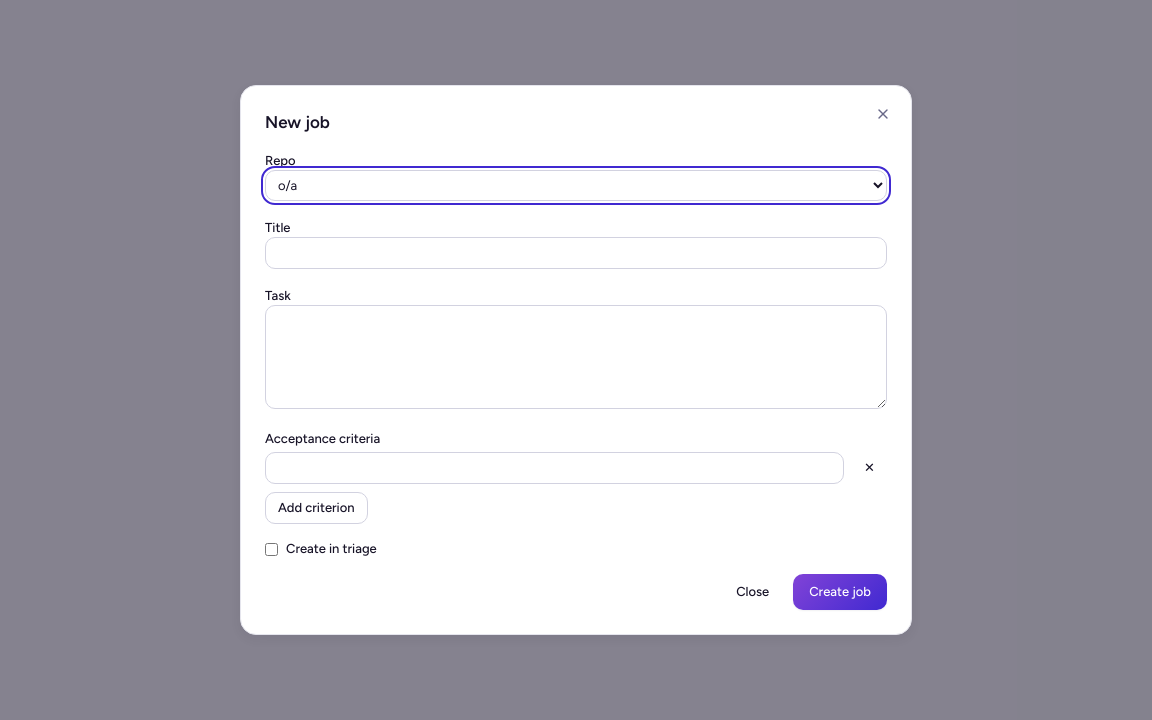
it: NewJobDialog › disables submit while saving
Click the button "Create job" at coordinates (840, 592), box [793,574,887,610]
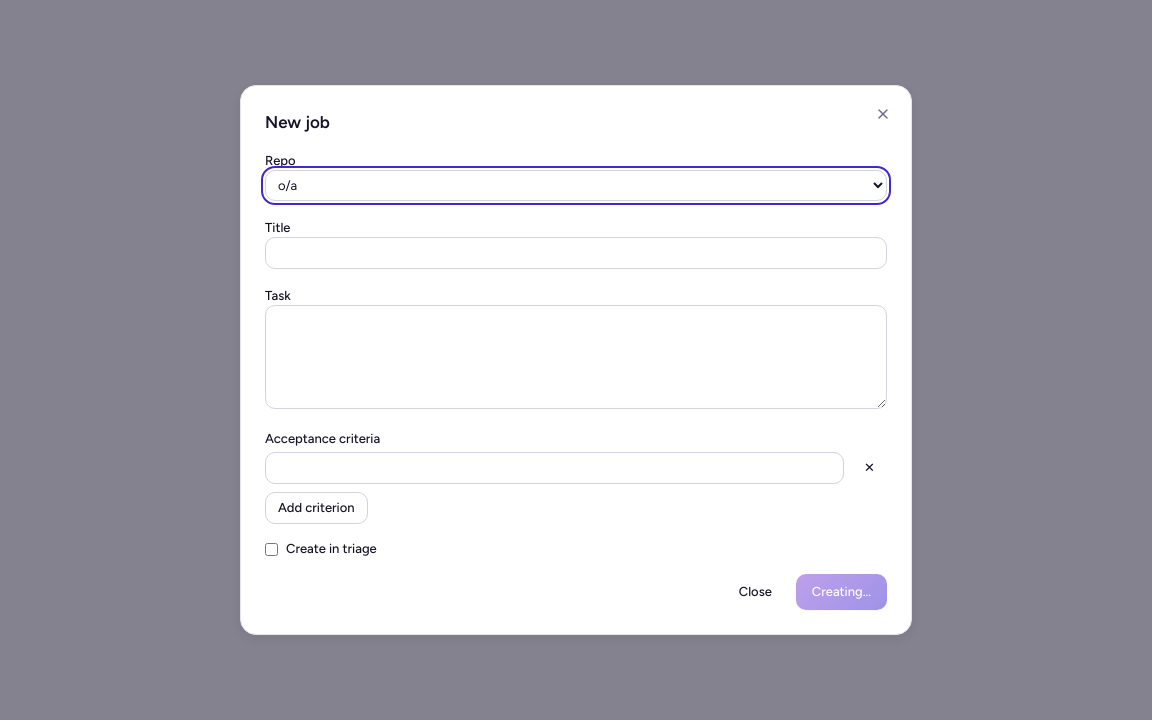
Now the button "Creating…" is disabled, box [796,574,887,610]
